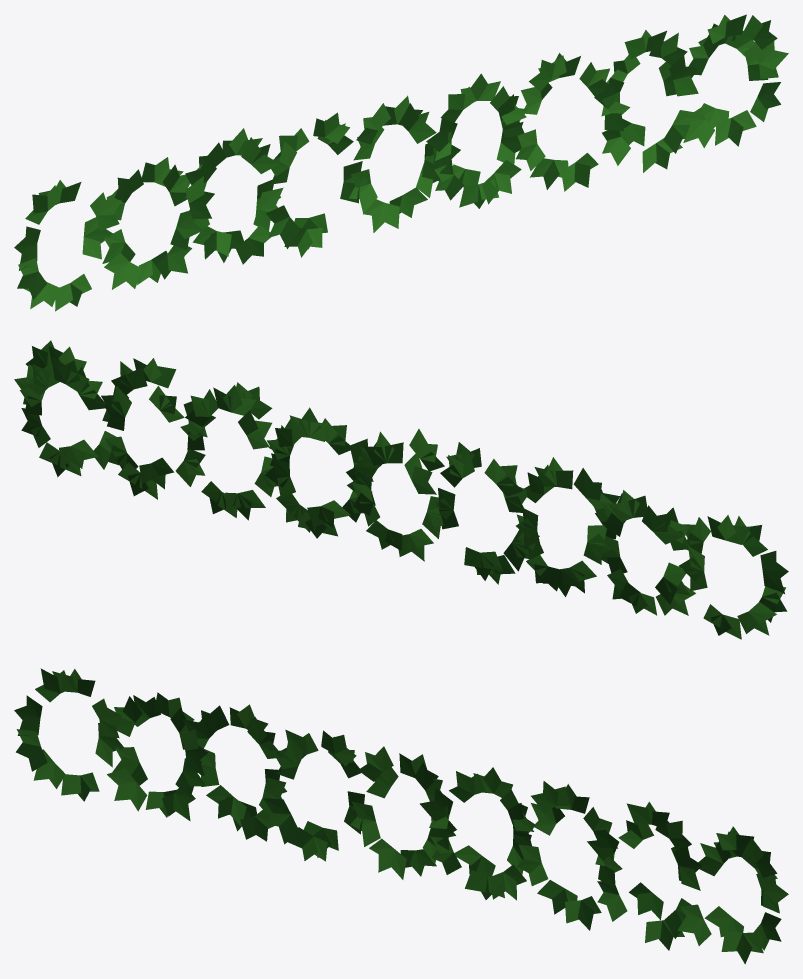
3 renders of one model, top to bottom at view 1: azimuth 30°, elevation 25°; view 2: azimuth 150°, elevation 25°; view 3: azimuth 330°, elevation 25°, orthographic.
Visible parts, largest first — view 1: r0c4_l00; view 2: r0c4_l00; view 3: r0c4_l00.
Boxes of the visible parts, x1,y1,x2,y2 form: r0c4_l00: (14,14,788,311); r0c4_l00: (14,340,788,639); r0c4_l00: (14,668,788,964).
Size of the model in its own units: 2.34 by 0.4156 by 0.0759.
